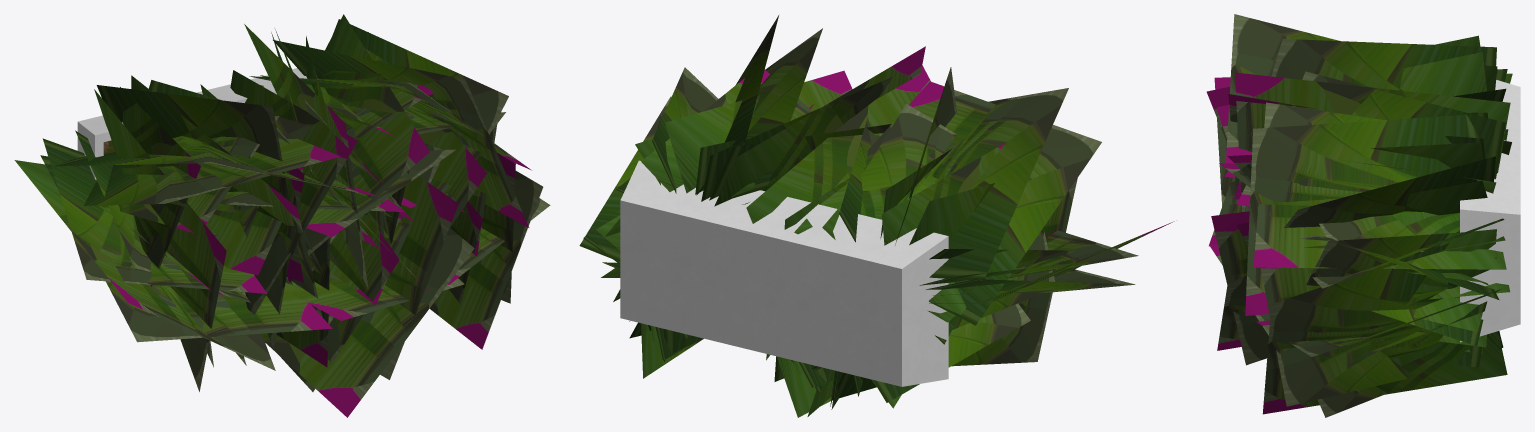
3 views of the same model, side by side, from view 1: azimuth 30°, elevation 25°; view 2: azimuth 150°, elevation 25°; view 3: azimuth 270°, elevation 25° (orthographic). The views are drawn at different scales.
Parts seen in each view (by area): view 1: Pot_3_Low_PolyPlant_0; view 2: Pot_3_Low_PolyPlant_0; view 3: Pot_3_Low_PolyPlant_0.
Part boxes in pixels (box(x1,y1,x2,y2)): Pot_3_Low_PolyPlant_0: box(14, 14, 550, 417); Pot_3_Low_PolyPlant_0: box(579, 15, 1174, 417); Pot_3_Low_PolyPlant_0: box(1206, 14, 1520, 417).
Bounding box in the file's own units: 2.5 × 1.51 × 1.45.
1 material, 1 textured.
